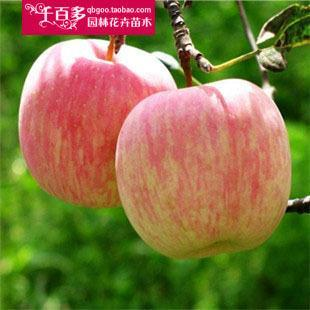apple: (113, 80, 292, 262), (15, 39, 178, 208)
